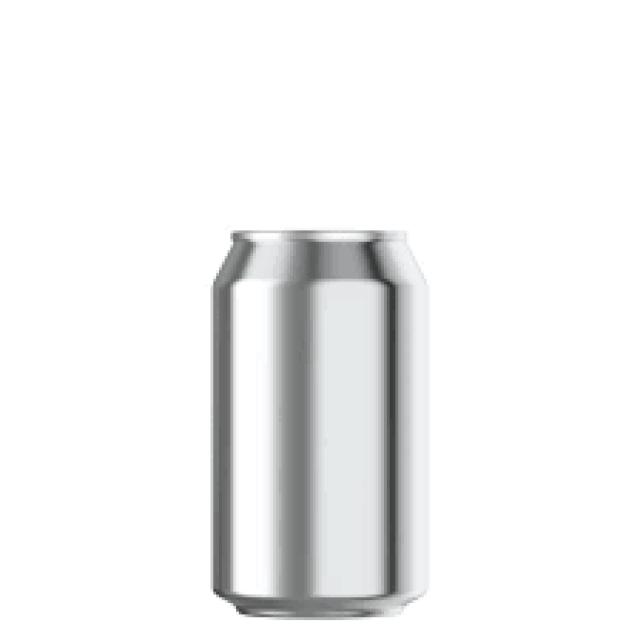Cans: (196, 219, 447, 626)
